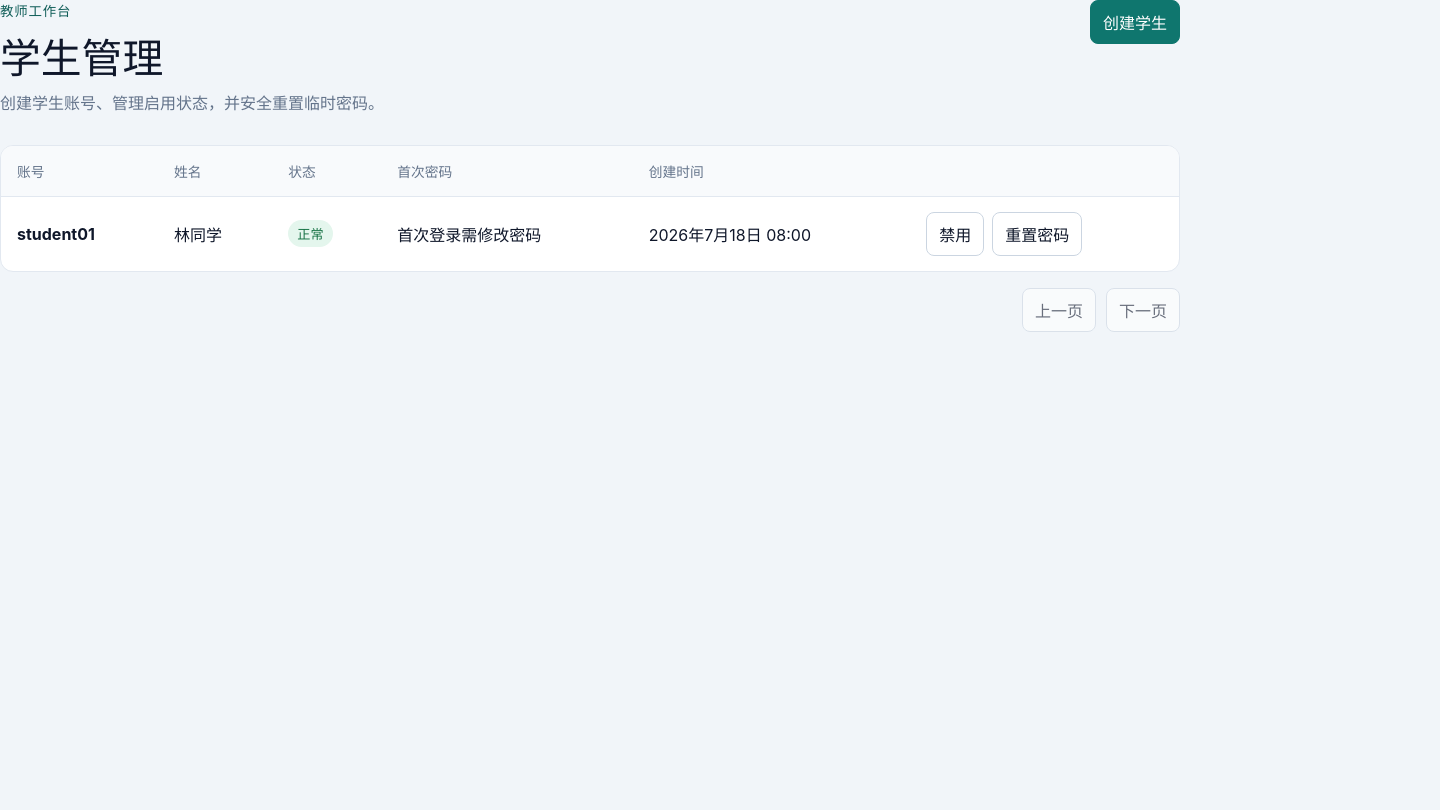
Test: StudentListView › requires target-named confirmation before resetting a password and clears it after an error
Click the button with aria-label "重置 student01 的密码" at (1037, 234), box [992,212,1082,256]
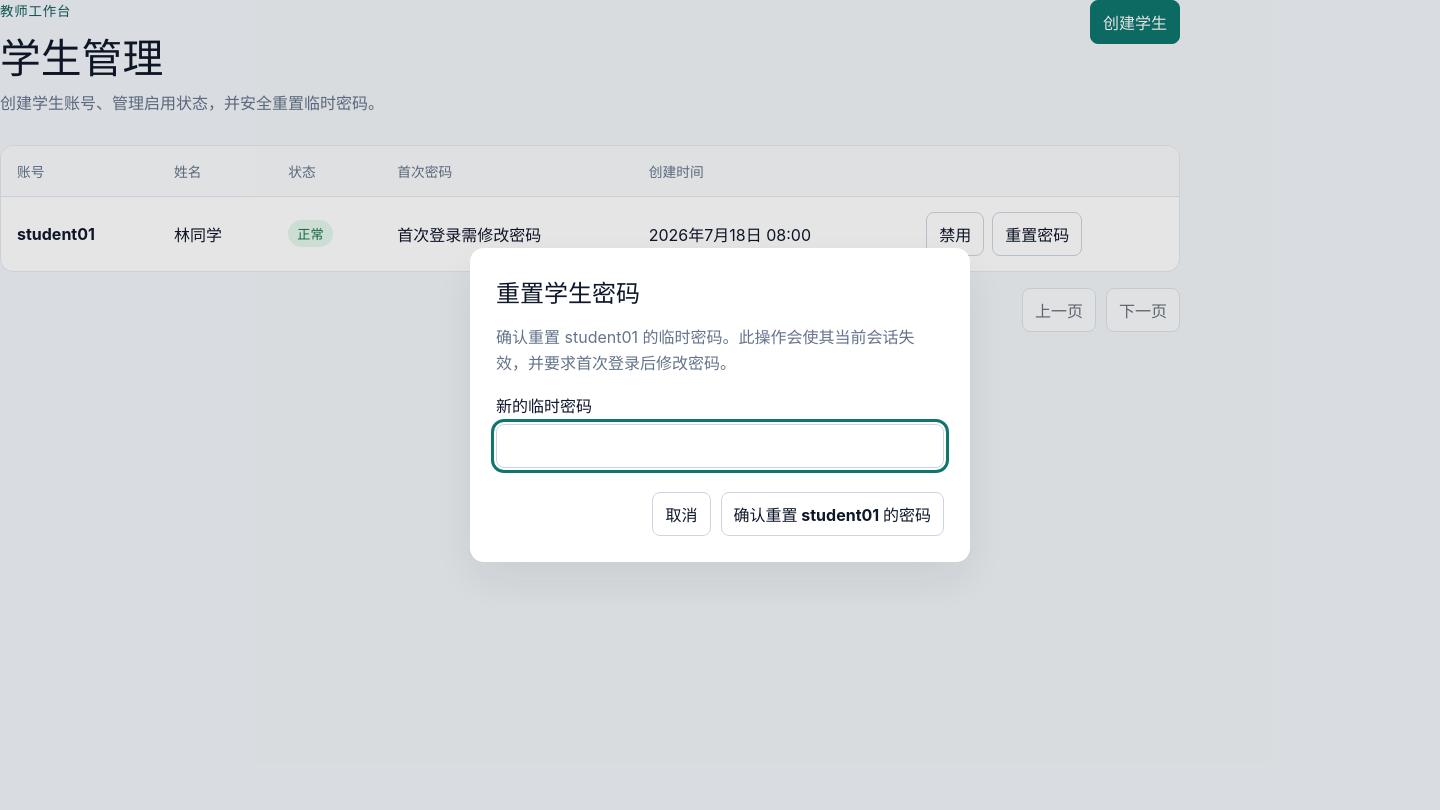
Result: the dialog shows "确认重置 student01 的临时密码" at [496,327,915,372]
Type "Temporary Password 42!" into the password field named "重置临时密码" at (720, 446), box [496,424,944,468]
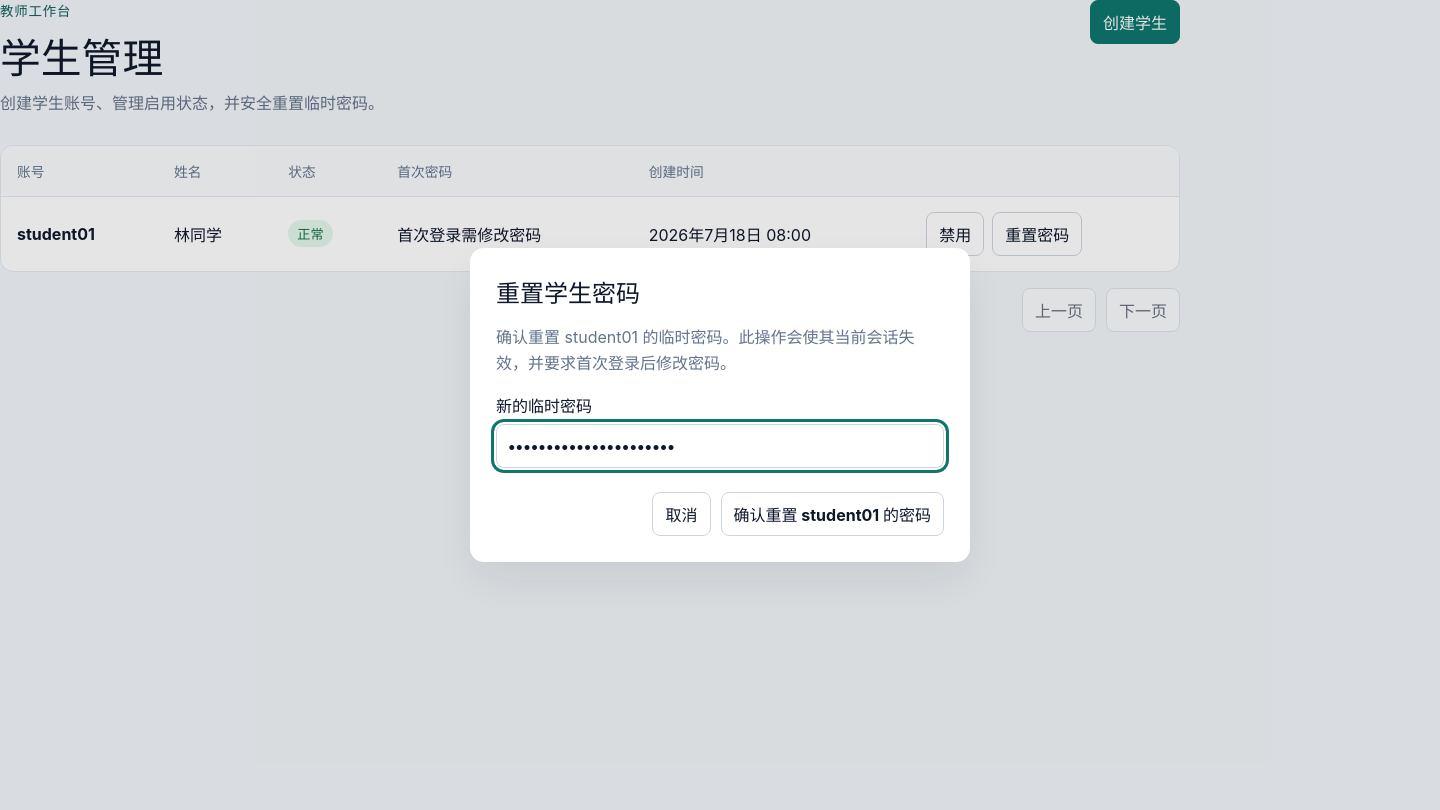
Click the button with aria-label "确认重置 student01 的密码" at (832, 514), box [720,492,944,536]
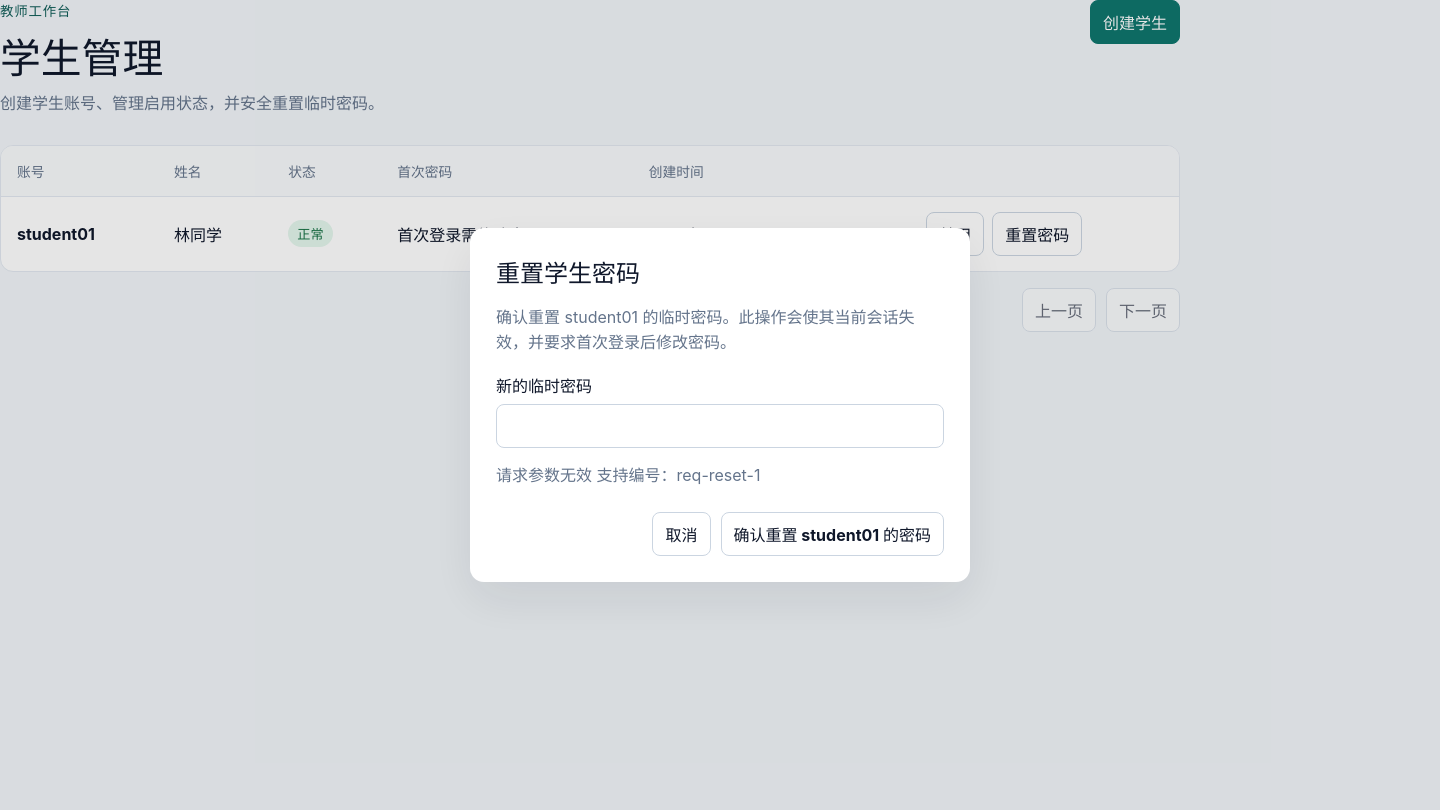
Result: the message "请求参数无效 支持编号：req-reset-1" is shown at [496,465,760,485]
Result: the password field named "重置临时密码" is empty at [496,404,944,448]
